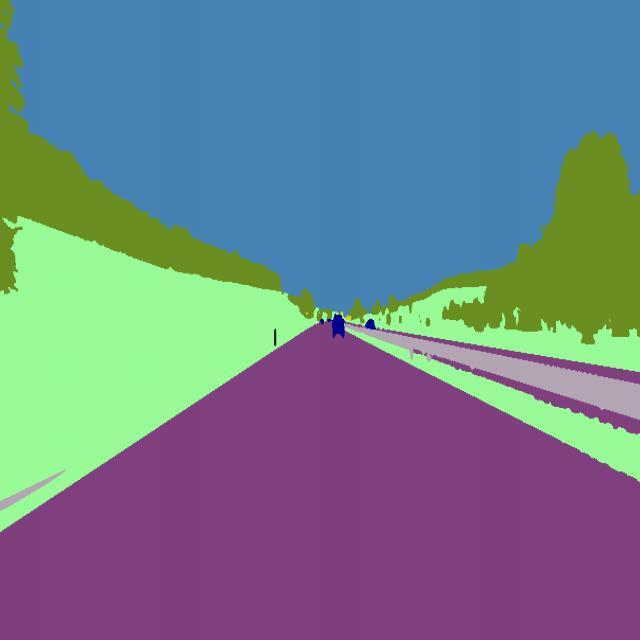safe: (328, 308, 348, 345), (364, 310, 378, 336)
